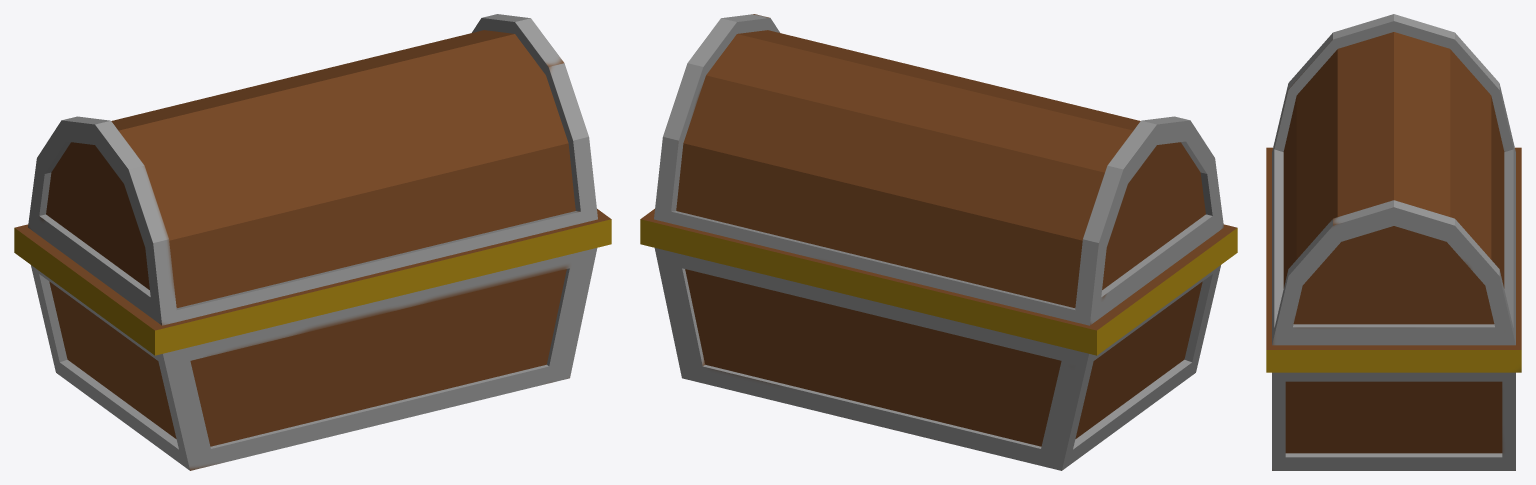
The model's file is chest.glb.
The picture shows the model from 3 angles, left to right: view 1: azimuth 30°, elevation 25°; view 2: azimuth 150°, elevation 25°; view 3: azimuth 270°, elevation 25°; orthographic projection. The views are drawn at different scales.
Parts seen in each view (by area): view 1: Cube, Cube.001; view 2: Cube, Cube.001; view 3: Cube, Cube.001.
Boxes of the visible parts, x1,y1,x2,y2 form: Cube: (14, 14, 611, 355); Cube.001: (31, 248, 597, 470); Cube: (640, 14, 1237, 355); Cube.001: (654, 248, 1220, 470); Cube: (1266, 14, 1521, 372); Cube.001: (1272, 372, 1515, 470).
Bounding box in the file's own units: 1.57 × 1 × 0.8378.
Materials: 1 (1 with a texture image).
